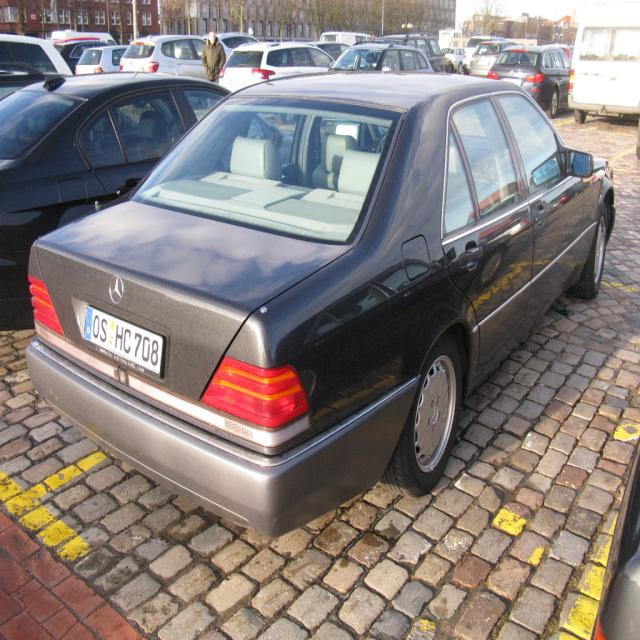car: (23, 46, 612, 544)
